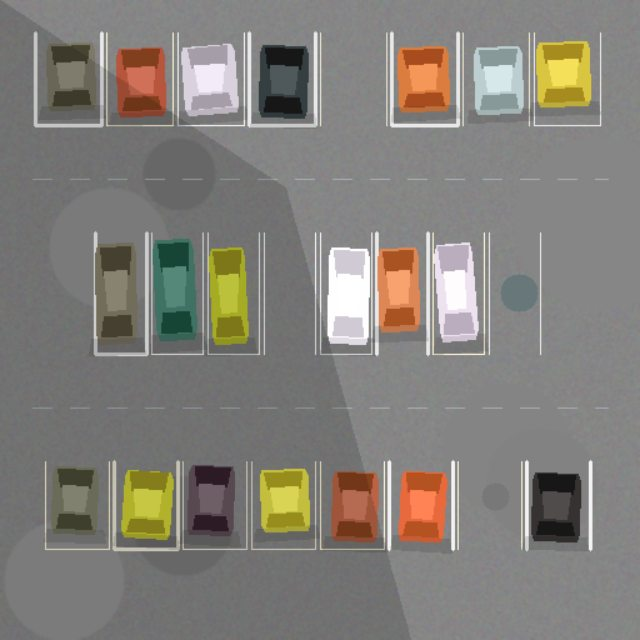space-empty: (264, 233, 315, 354), (489, 233, 540, 354), (320, 33, 386, 125), (457, 461, 521, 549)
space-occupied: (376, 233, 428, 354), (432, 233, 484, 354), (95, 233, 146, 354), (151, 233, 202, 354), (208, 233, 259, 354), (320, 233, 371, 354), (391, 33, 458, 125), (462, 33, 529, 125), (35, 33, 101, 125), (106, 33, 172, 125), (178, 33, 244, 125), (249, 33, 315, 125), (534, 33, 600, 125), (45, 461, 109, 549), (251, 461, 315, 549), (320, 461, 384, 549), (389, 461, 453, 549), (526, 461, 590, 549), (114, 461, 177, 549), (183, 461, 246, 549)
